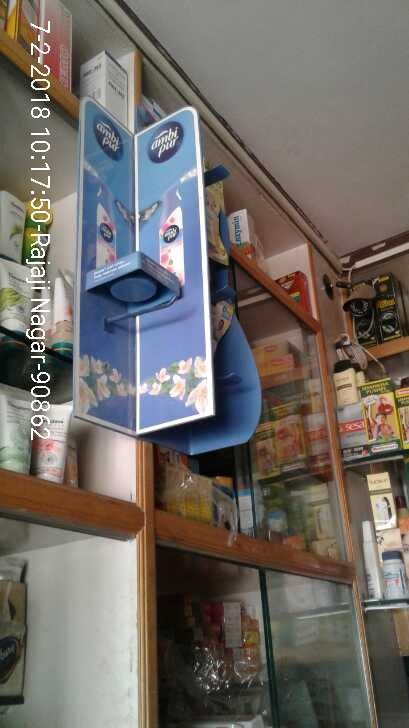reject: (95, 195, 217, 414)
